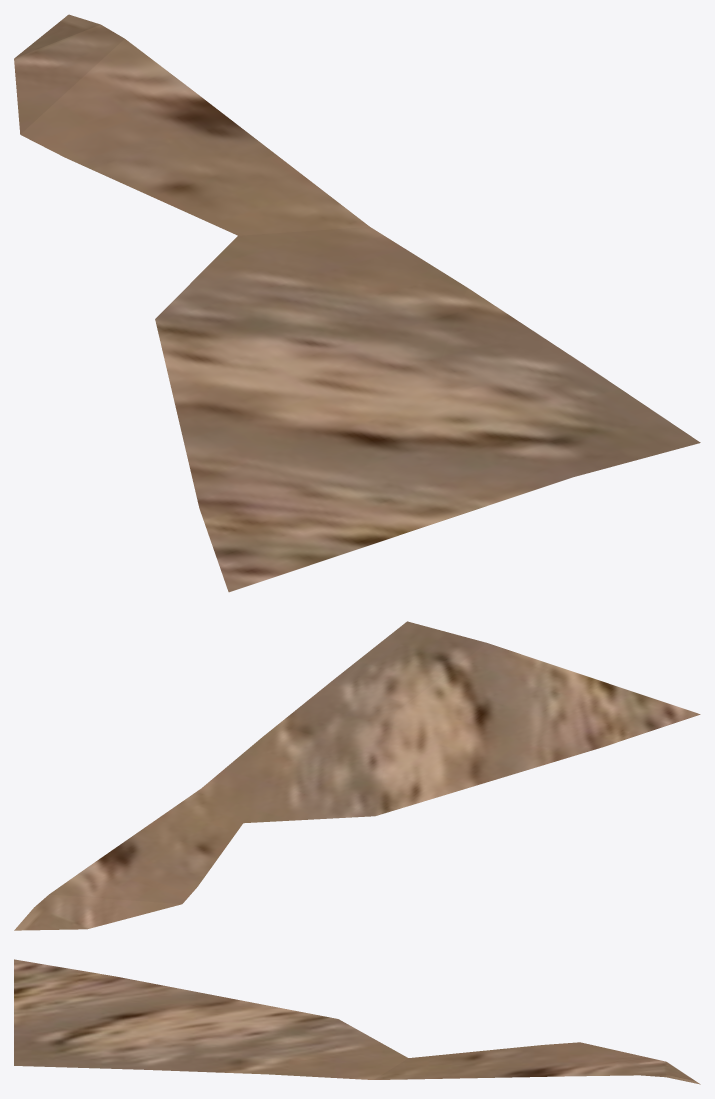
3 views of the same model, one above another, from view 1: azimuth 30°, elevation 25°; view 2: azimuth 150°, elevation 25°; view 3: azimuth 270°, elevation 25° (orthographic). The views are drawn at different scales.
Size of the model in its own units: 0.4053 by 0.0282 by 0.9398.
Materials: 1 (1 with a texture image).
